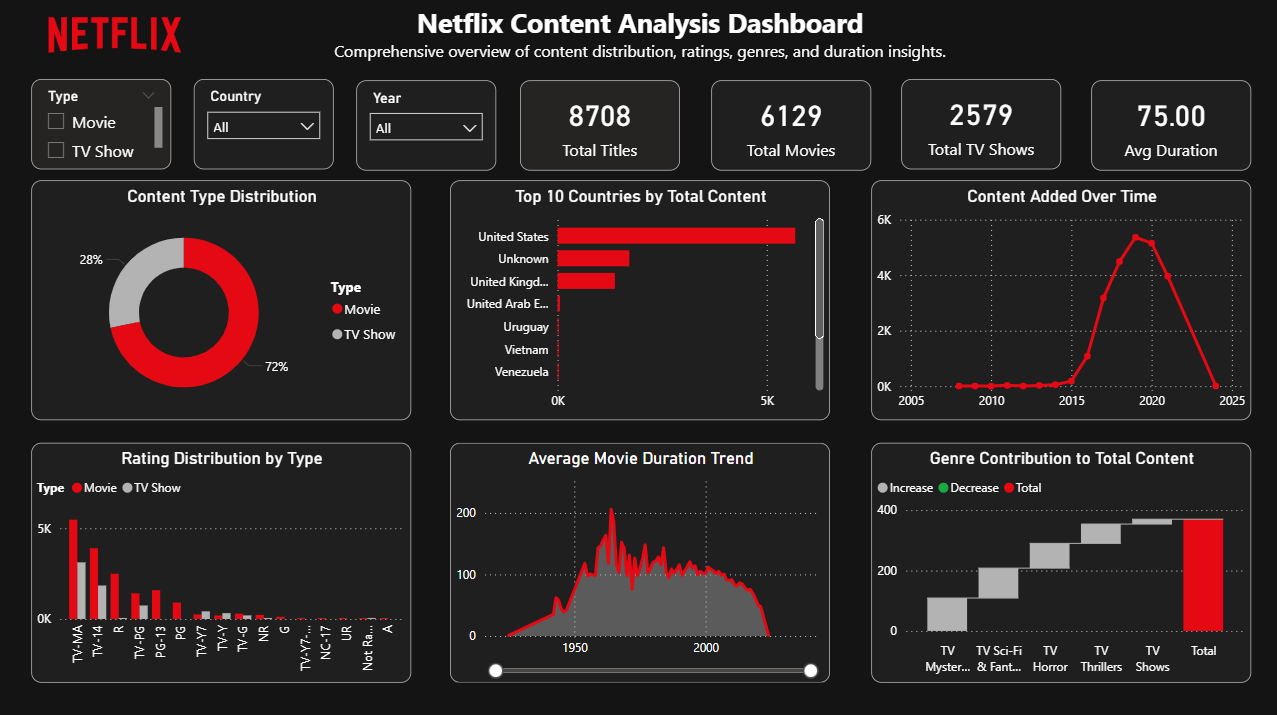

The page's visual inventory and layout, read from the dashboard file:
{"tool":"powerbi","page":{"name":"Netflix 1","canvas":[1280,720],"ordinal":0},"visuals":[{"type":"textbox","box":[0,0,1280,81.2],"z":0},{"type":"card","fields":{"Values":["Sheet1.Total Titles"]},"box":[520,81.2,160,90],"z":1000},{"type":"donutChart","title":"Content Type Distribution","fields":{"Category":["Sheet1.type"],"Y":["CountNonNull(Sheet1.show_id)"]},"box":[31.2,181.2,380,240],"z":2000},{"type":"clusteredBarChart","title":"Top 10 Countries by Total Content","fields":{"Category":["Sheet1.country"],"Y":["CountNonNull(Sheet1.show_id)"]},"box":[450,181.2,380,240],"z":3000},{"type":"clusteredColumnChart","title":"Rating Distribution by Type","fields":{"Series":["Sheet1.type"],"Category":["Sheet1.rating"],"Y":["CountNonNull(Sheet1.show_id)"]},"box":[31.2,443.8,380,240],"z":4000},{"type":"lineChart","title":"Content Added Over Time","fields":{"Category":["Sheet1.year_added"],"Y":["CountNonNull(Sheet1.show_id)"]},"box":[871.2,181.2,380,240],"z":5000},{"type":"areaChart","title":"Average Movie Duration Trend","fields":{"Category":["Sheet1.release_year"],"Y":["Sheet1.Avg Movie Duration"]},"box":[450,443.8,380,240],"z":6000},{"type":"waterfallChart","title":"Genre Contribution Breakdown","fields":{"Category":["Sheet1.listed_in"],"Y":["CountNonNull(Sheet1.show_id)"]},"box":[871.2,443.8,380,240],"z":7000},{"type":"slicer","fields":{"Values":["Sheet1.type"]},"box":[31.2,80,140,90],"z":8000},{"type":"image","box":[31.2,0,167.5,72.5],"z":9000},{"type":"card","fields":{"Values":["Sheet1.Total Movies"]},"box":[711.2,81.2,160,90],"z":10000},{"type":"card","fields":{"Values":["Sheet1.Total TV Shows"]},"box":[901.2,80,160,90],"z":11000},{"type":"card","fields":{"Values":["Sheet1.Avg Movie Duration"]},"box":[1091.2,81.2,160,90],"z":12000},{"type":"slicer","fields":{"Values":["Sheet1.country"]},"box":[193.8,80,140,90],"z":13000},{"type":"slicer","fields":{"Values":["Sheet1.year_added"]},"box":[356.2,81.2,140,90],"z":14000}]}

Visuals, with their boxes in screenshot pixels (x1, y1, x2, y2), scaled from the page's 1280x720 canvas onto the 1277x715 screenshot:
textbox: <region>0, 0, 1276, 81</region>
card - Sheet1.Total Titles: <region>519, 81, 678, 170</region>
"Content Type Distribution" donutChart: <region>31, 180, 410, 418</region>
"Top 10 Countries by Total Content" clusteredBarChart: <region>449, 180, 828, 418</region>
"Rating Distribution by Type" clusteredColumnChart: <region>31, 441, 410, 679</region>
"Content Added Over Time" lineChart: <region>869, 180, 1248, 418</region>
"Average Movie Duration Trend" areaChart: <region>449, 441, 828, 679</region>
"Genre Contribution Breakdown" waterfallChart: <region>869, 441, 1248, 679</region>
slicer - Sheet1.type: <region>31, 79, 171, 169</region>
image: <region>31, 0, 198, 72</region>
card - Sheet1.Total Movies: <region>710, 81, 869, 170</region>
card - Sheet1.Total TV Shows: <region>899, 79, 1059, 169</region>
card - Sheet1.Avg Movie Duration: <region>1089, 81, 1248, 170</region>
slicer - Sheet1.country: <region>193, 79, 333, 169</region>
slicer - Sheet1.year_added: <region>355, 81, 495, 170</region>
